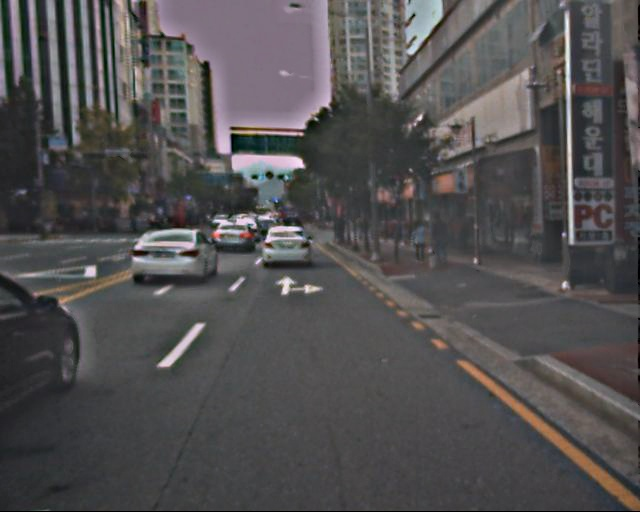person: (427, 210, 450, 265), (411, 219, 430, 265)
